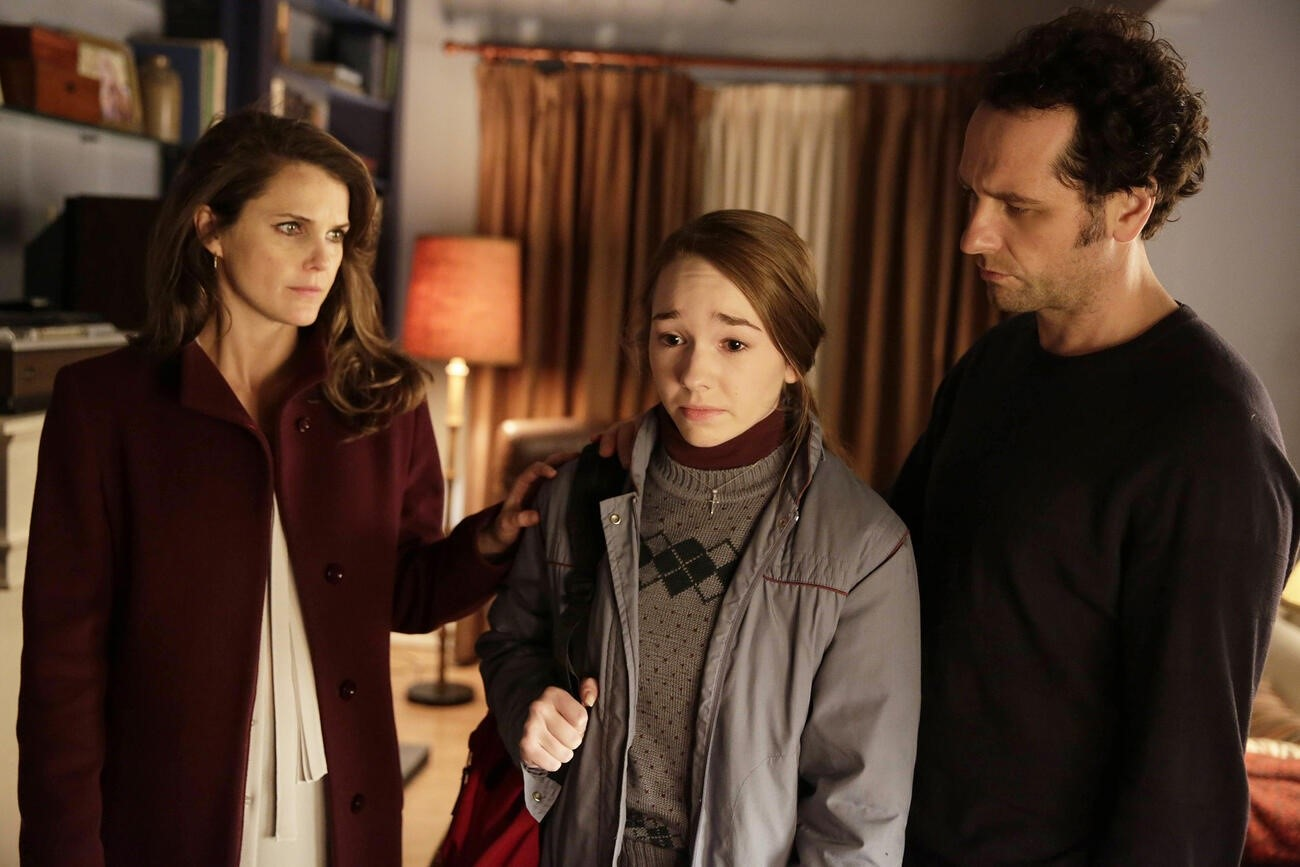face_no_mask: (954, 22, 1189, 317), (644, 208, 817, 447), (192, 115, 371, 328)
